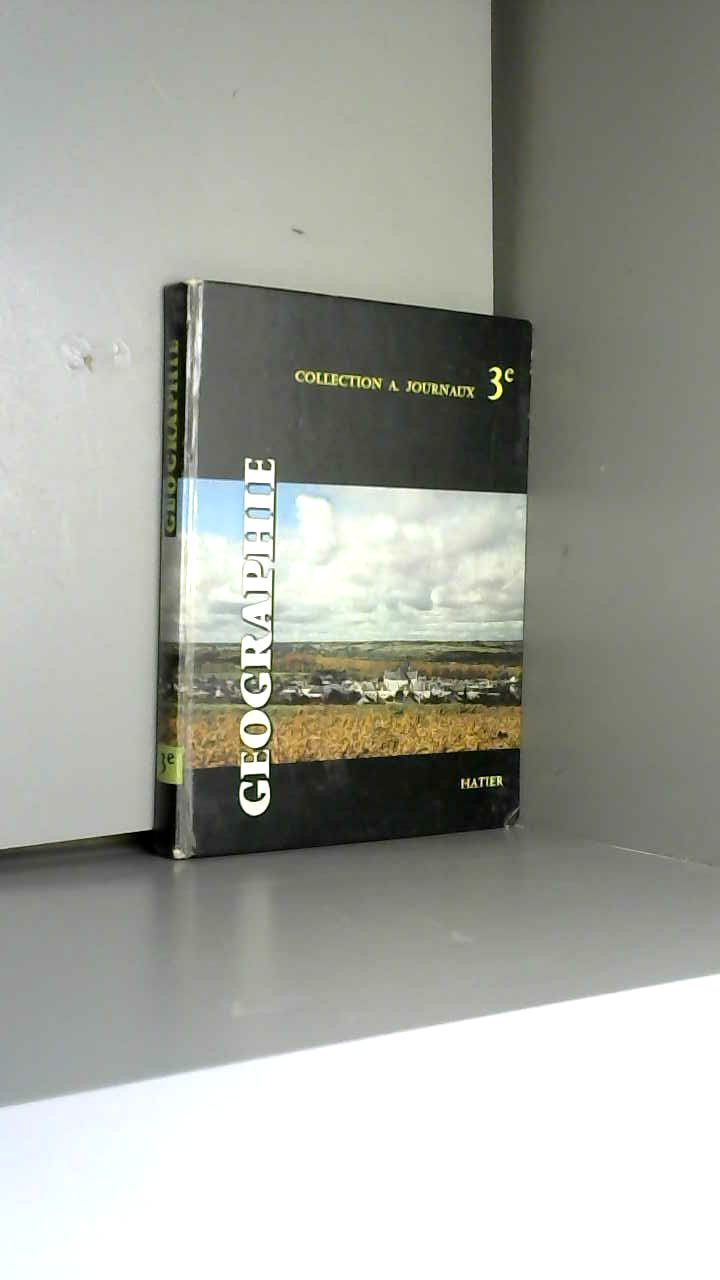book: (114, 244, 578, 900)
